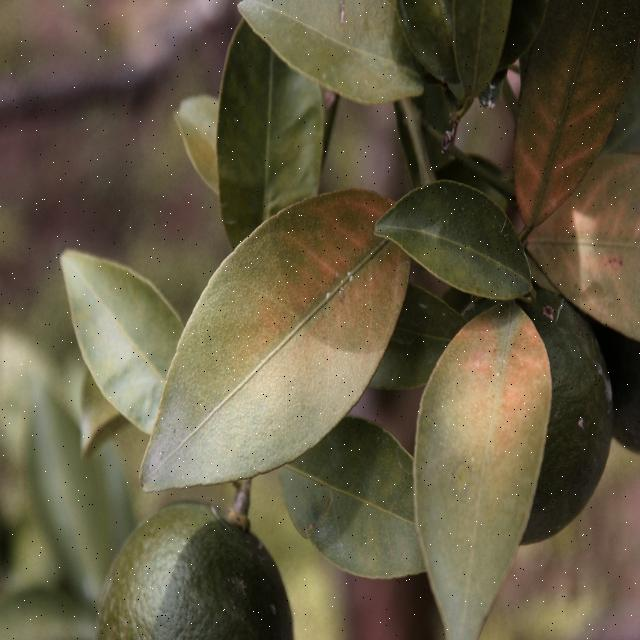greening: (145, 209, 379, 497), (408, 315, 547, 640)
